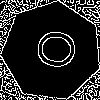O: (26, 26, 77, 72)
